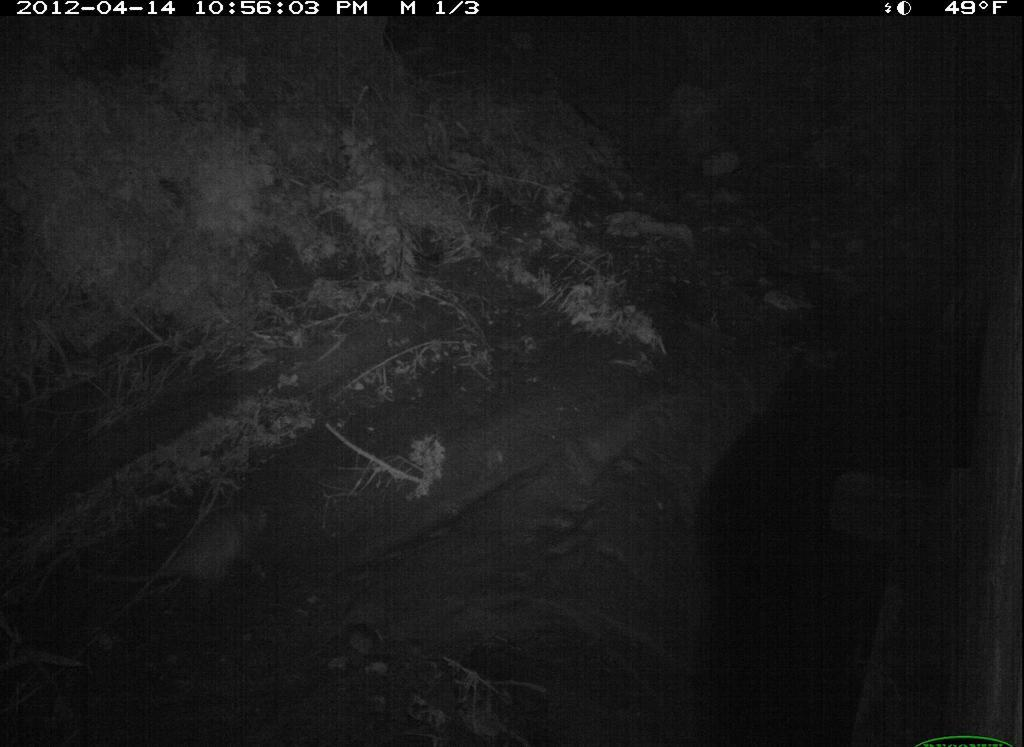opossum: (84, 502, 280, 600)
